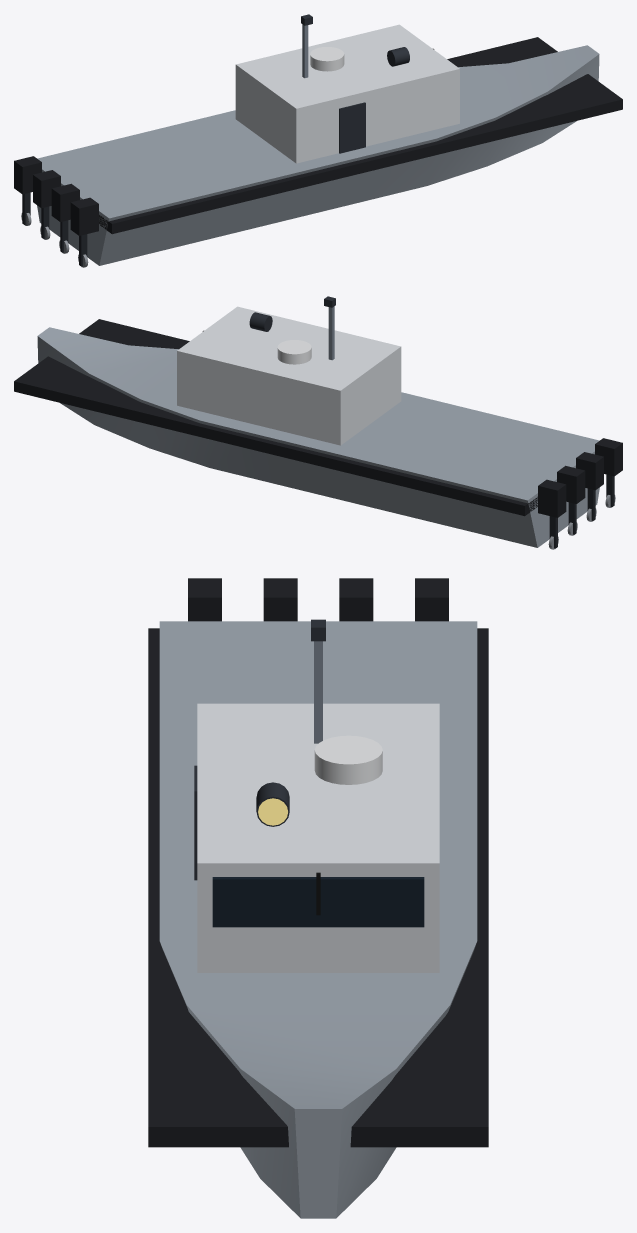
Rendered from ship_v2.glb.
3 renders of one model, top to bottom at view 1: azimuth 30°, elevation 25°; view 2: azimuth 150°, elevation 25°; view 3: azimuth 270°, elevation 25°, orthographic. The views are drawn at different scales.
Parts seen in each view (by area): view 1: Hull__Hull, Cabin__Cabin, Hull__Fender, Cabin__Door_panel, Transom__Outboard_4_cowl, Transom__Outboard_3_cowl, Transom__Outboard_1_cowl, Transom__Outboard_2_cowl, Roof__Radome, Mast__Mast, Roof__Searchlight_housing; view 2: Hull__Hull, Cabin__Cabin, Hull__Fender, Transom__Outboard_1_cowl, Transom__Outboard_2_cowl, Transom__Outboard_4_cowl, Transom__Outboard_3_cowl, Roof__Radome, Roof__Searchlight_housing, Mast__Mast; view 3: Hull__Hull, Cabin__Cabin, Hull__Fender, Cabin__Windows, Roof__Radome, Transom__Outboard_2_cowl, Transom__Outboard_3_cowl, Transom__Outboard_1_cowl, Transom__Outboard_4_cowl, Mast__Mast.
Boxes of the visible parts, bbox=[...] form: Hull__Hull: bbox=[37, 45, 599, 265]; Cabin__Cabin: bbox=[235, 24, 459, 163]; Hull__Fender: bbox=[99, 37, 622, 234]; Cabin__Door_panel: bbox=[339, 102, 365, 153]; Transom__Outboard_4_cowl: bbox=[70, 197, 98, 235]; Transom__Outboard_3_cowl: bbox=[51, 183, 79, 221]; Transom__Outboard_1_cowl: bbox=[14, 156, 41, 194]; Transom__Outboard_2_cowl: bbox=[33, 170, 60, 208]; Roof__Radome: bbox=[310, 47, 344, 71]; Mast__Mast: bbox=[302, 24, 308, 78]; Roof__Searchlight_housing: bbox=[387, 47, 409, 66]; Hull__Hull: bbox=[37, 327, 599, 547]; Cabin__Cabin: bbox=[177, 306, 401, 445]; Hull__Fender: bbox=[14, 319, 537, 516]; Transom__Outboard_1_cowl: bbox=[538, 479, 566, 517]; Transom__Outboard_2_cowl: bbox=[557, 465, 585, 503]; Transom__Outboard_4_cowl: bbox=[595, 438, 622, 476]; Transom__Outboard_3_cowl: bbox=[576, 452, 603, 490]; Roof__Radome: bbox=[277, 340, 311, 364]; Roof__Searchlight_housing: bbox=[249, 312, 272, 331]; Mast__Mast: bbox=[328, 306, 334, 360]; Hull__Hull: bbox=[159, 621, 477, 1218]; Cabin__Cabin: bbox=[197, 703, 439, 972]; Hull__Fender: bbox=[148, 628, 488, 1147]; Cabin__Windows: bbox=[212, 877, 424, 927]; Roof__Radome: bbox=[314, 735, 382, 784]; Transom__Outboard_2_cowl: bbox=[339, 578, 373, 621]; Transom__Outboard_3_cowl: bbox=[263, 578, 297, 621]; Transom__Outboard_1_cowl: bbox=[415, 578, 448, 621]; Transom__Outboard_4_cowl: bbox=[188, 578, 221, 621]; Mast__Mast: bbox=[314, 641, 322, 743].
Bounding box in the file's own units: 16.7 × 4.95 × 4.5.
